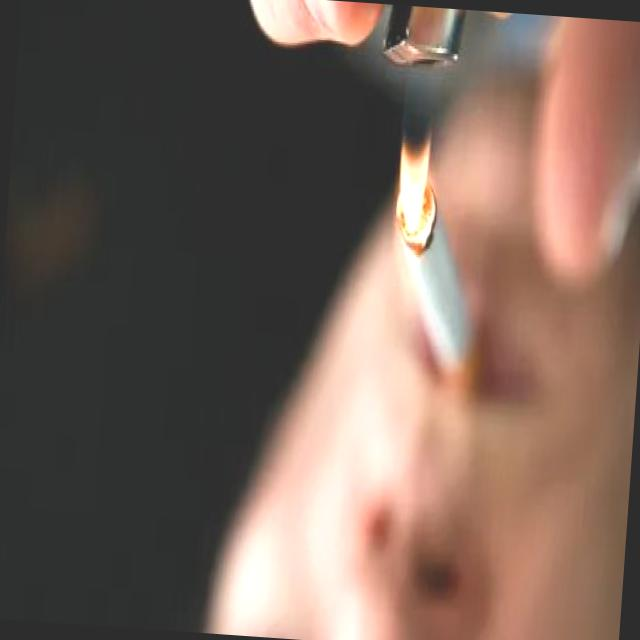smoke: (378, 168, 497, 398)
